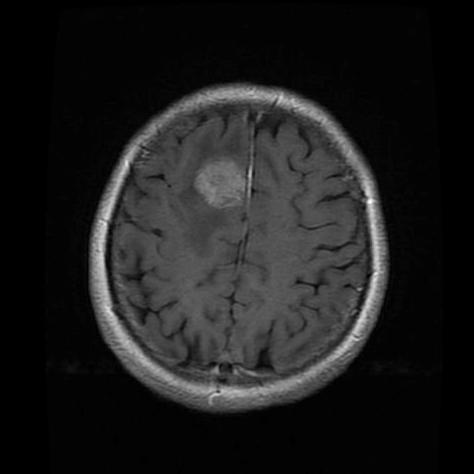Tumour-Meningioma: (173, 142, 273, 234)
